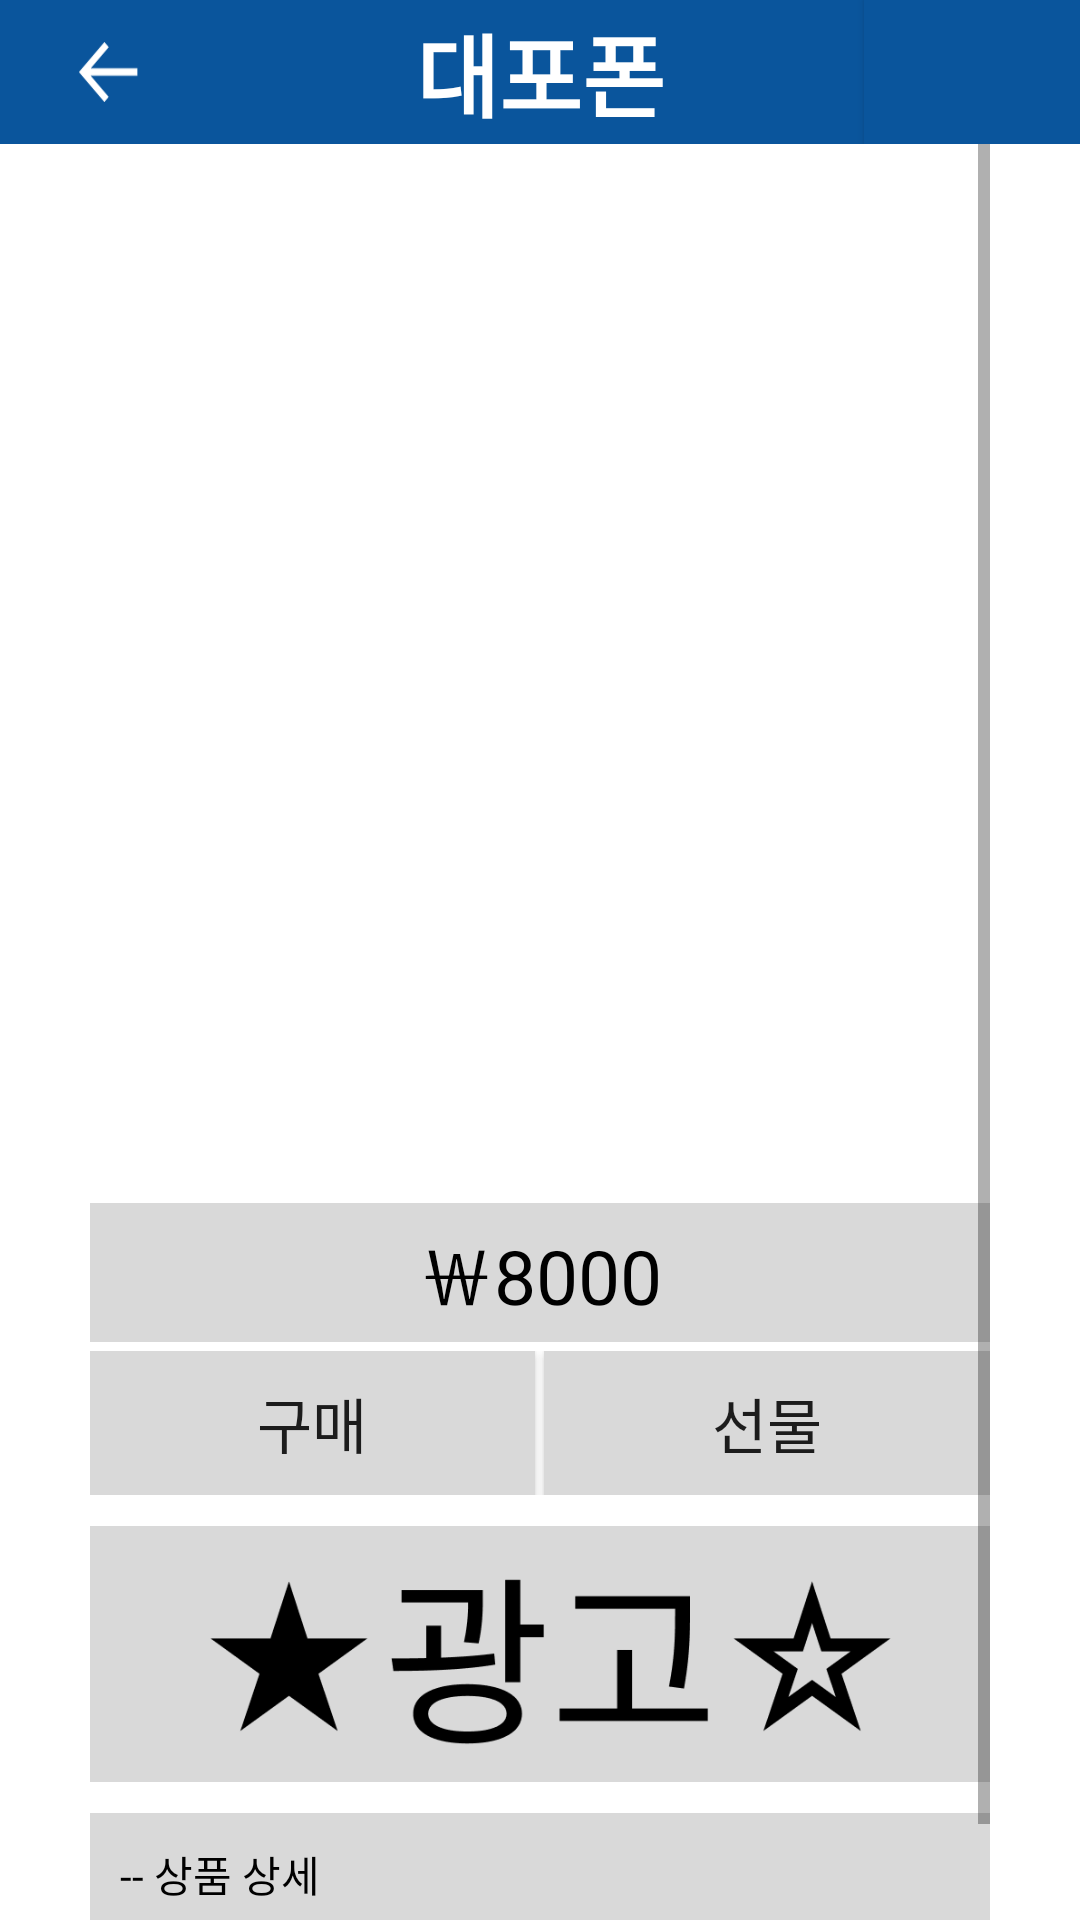

Locate icon controls on the screen. Image size 1080px×1920px, boxes as (x1, y1, x2, y2).
back arrow resize: (79, 42, 138, 102)
